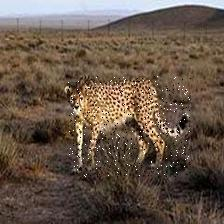Cheetha: (67, 76, 190, 177)
